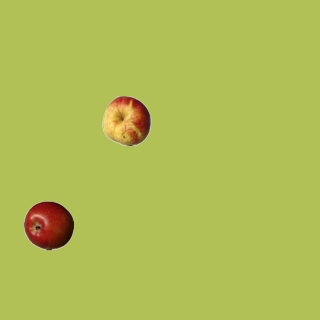Apple Braeburn: (23, 200, 73, 250)
Apple Red Yellow 1: (101, 95, 151, 145)
